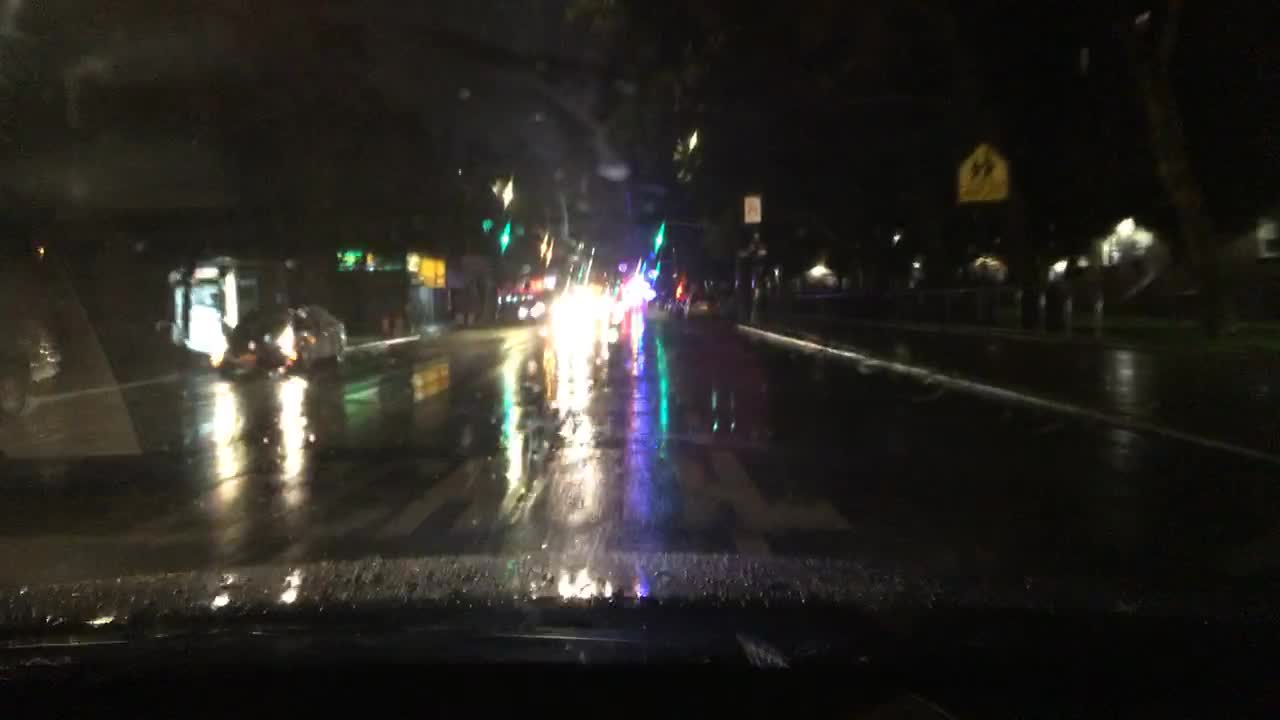car: (220, 303, 345, 370), (1, 310, 64, 425), (683, 288, 724, 319), (516, 294, 543, 323)
traffic light: (501, 223, 510, 246), (655, 228, 663, 244), (648, 265, 656, 278)
traffic sign: (952, 140, 1012, 202), (742, 194, 760, 224)
